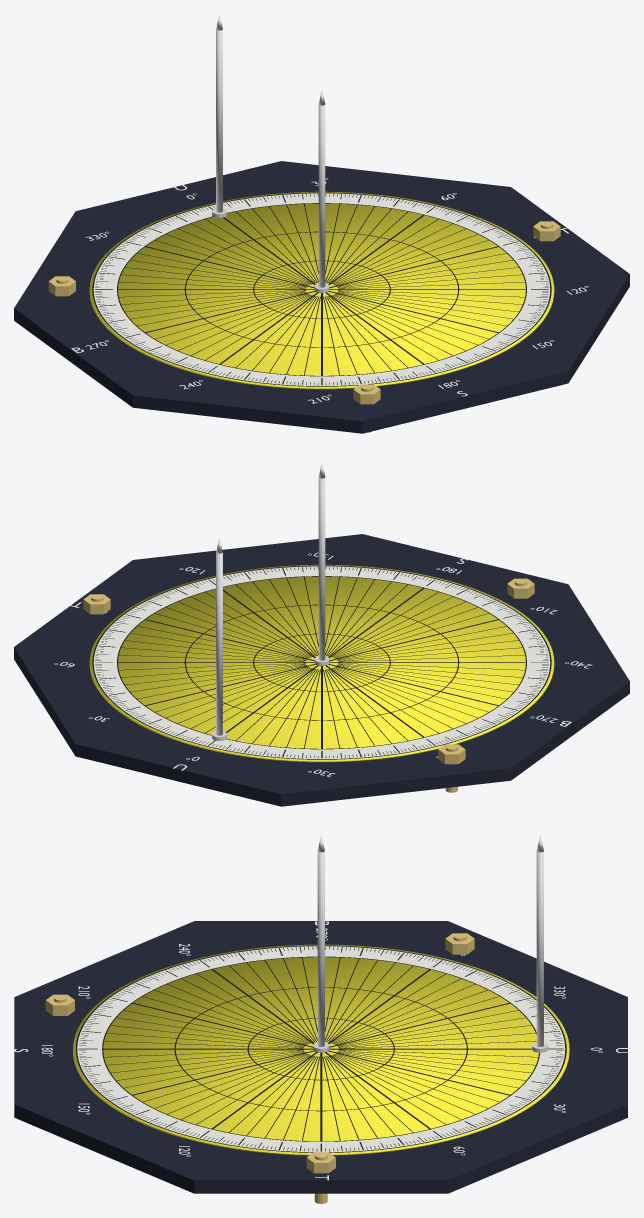
Rendered from istiwaain.glb.
3 renders of one model, top to bottom at view 1: azimuth 30°, elevation 25°; view 2: azimuth 150°, elevation 25°; view 3: azimuth 270°, elevation 25°, orthographic. The views are drawn at different scales.
Visible parts, largest first — view 1: Piringan, Papan_Oktagon, Cincin_Skala, Garis_Radial_5, Garis_Radial_30, Istiwak_Pusat_Batang, Lingkaran_Luar, Istiwak_0derajat_Batang, Tick_1, Lingkaran_Dalam, Lingkaran_Bantu_1, Tick_10; view 2: Piringan, Papan_Oktagon, Cincin_Skala, Garis_Radial_5, Garis_Radial_30, Lingkaran_Luar, Istiwak_Pusat_Batang, Tick_1, Istiwak_0derajat_Batang, Lingkaran_Dalam, Lingkaran_Bantu_1, Tick_10; view 3: Piringan, Papan_Oktagon, Cincin_Skala, Garis_Radial_5, Garis_Radial_30, Lingkaran_Luar, Istiwak_0derajat_Batang, Istiwak_Pusat_Batang, Tick_1, Lingkaran_Dalam, Lingkaran_Bantu_1, Tick_10.
Boxes of the visible parts, left/top/right/bottom form: Piringan: left=89, top=191, right=554, bottom=389; Papan_Oktagon: left=14, top=161, right=629, bottom=433; Cincin_Skala: left=93, top=193, right=550, bottom=385; Garis_Radial_5: left=118, top=203, right=525, bottom=375; Garis_Radial_30: left=117, top=214, right=526, bottom=376; Istiwak_Pusat_Batang: left=318, top=105, right=325, bottom=287; Lingkaran_Luar: left=92, top=192, right=551, bottom=386; Istiwak_0derajat_Batang: left=216, top=29, right=222, bottom=212; Tick_1: left=95, top=194, right=548, bottom=384; Lingkaran_Dalam: left=117, top=203, right=526, bottom=376; Lingkaran_Bantu_1: left=184, top=231, right=459, bottom=347; Tick_10: left=95, top=195, right=548, bottom=385; Piringan: left=89, top=564, right=554, bottom=762; Papan_Oktagon: left=14, top=534, right=629, bottom=806; Cincin_Skala: left=93, top=566, right=550, bottom=758; Garis_Radial_5: left=118, top=576, right=525, bottom=748; Garis_Radial_30: left=117, top=587, right=526, bottom=749; Lingkaran_Luar: left=92, top=565, right=551, bottom=759; Istiwak_Pusat_Batang: left=318, top=478, right=325, bottom=660; Tick_1: left=95, top=567, right=548, bottom=757; Istiwak_0derajat_Batang: left=216, top=552, right=222, bottom=735; Lingkaran_Dalam: left=117, top=576, right=526, bottom=749; Lingkaran_Bantu_1: left=184, top=604, right=459, bottom=720; Tick_10: left=95, top=568, right=548, bottom=758; Piringan: left=73, top=944, right=569, bottom=1155; Papan_Oktagon: left=14, top=921, right=627, bottom=1193; Cincin_Skala: left=77, top=946, right=565, bottom=1152; Garis_Radial_5: left=103, top=957, right=537, bottom=1141; Garis_Radial_30: left=102, top=969, right=532, bottom=1141; Lingkaran_Luar: left=76, top=945, right=566, bottom=1152; Istiwak_0derajat_Batang: left=536, top=851, right=543, bottom=1046; Istiwak_Pusat_Batang: left=317, top=851, right=324, bottom=1046; Tick_1: left=79, top=946, right=563, bottom=1151; Lingkaran_Dalam: left=102, top=956, right=539, bottom=1141; Lingkaran_Bantu_1: left=174, top=987, right=467, bottom=1111; Tick_10: left=79, top=948, right=563, bottom=1151.
Size of what is drawn, in the model's own units: 42 by 18.8 by 42.17.
